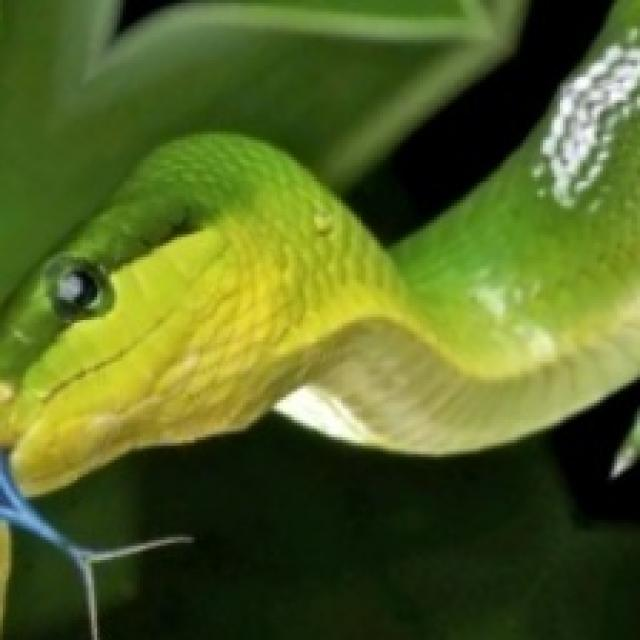red-tailed green ratsnake: (0, 3, 640, 494)
